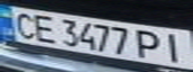3: (54, 17, 81, 48)
4: (75, 19, 96, 51)
7: (90, 21, 115, 53), (109, 24, 133, 56)
C: (9, 9, 39, 39)
E: (30, 12, 60, 43)
I: (157, 30, 190, 63)
P: (133, 27, 166, 61)
